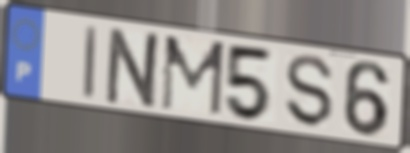5: (222, 41, 281, 125)
6: (340, 59, 393, 140)
I: (81, 23, 100, 103)
M: (158, 33, 228, 119)
N: (102, 25, 166, 112)
S: (284, 53, 336, 131)
